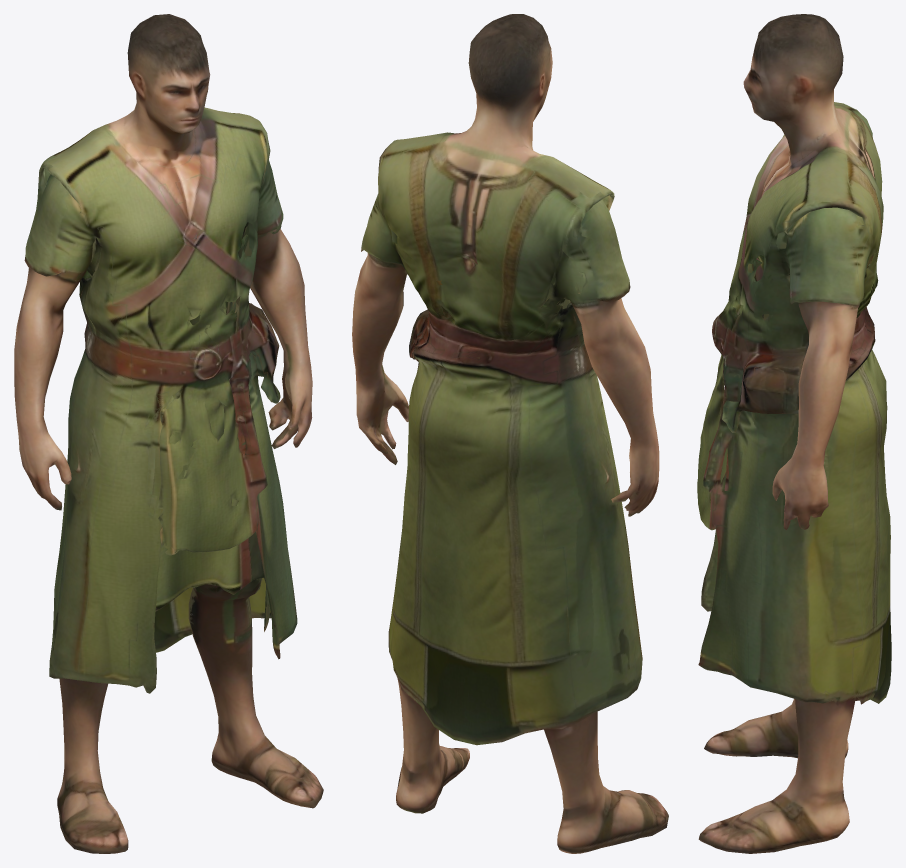
File: ancient_character_3.glb
3 views of the same model, side by side, from view 1: azimuth 30°, elevation 25°; view 2: azimuth 150°, elevation 25°; view 3: azimuth 270°, elevation 25° (orthographic). The views are drawn at different scales.
Parts seen in each view (by area): view 1: Object_4; view 2: Object_4; view 3: Object_4.
Boxes of the visible parts, x1=… form: Object_4: x1=14, y1=14, x2=323, y2=853; Object_4: x1=352, y1=14, x2=668, y2=853; Object_4: x1=697, y1=14, x2=891, y2=853.
Bounding box in the file's own units: 0.7742 × 2 × 0.452.
1 material, 1 textured.
